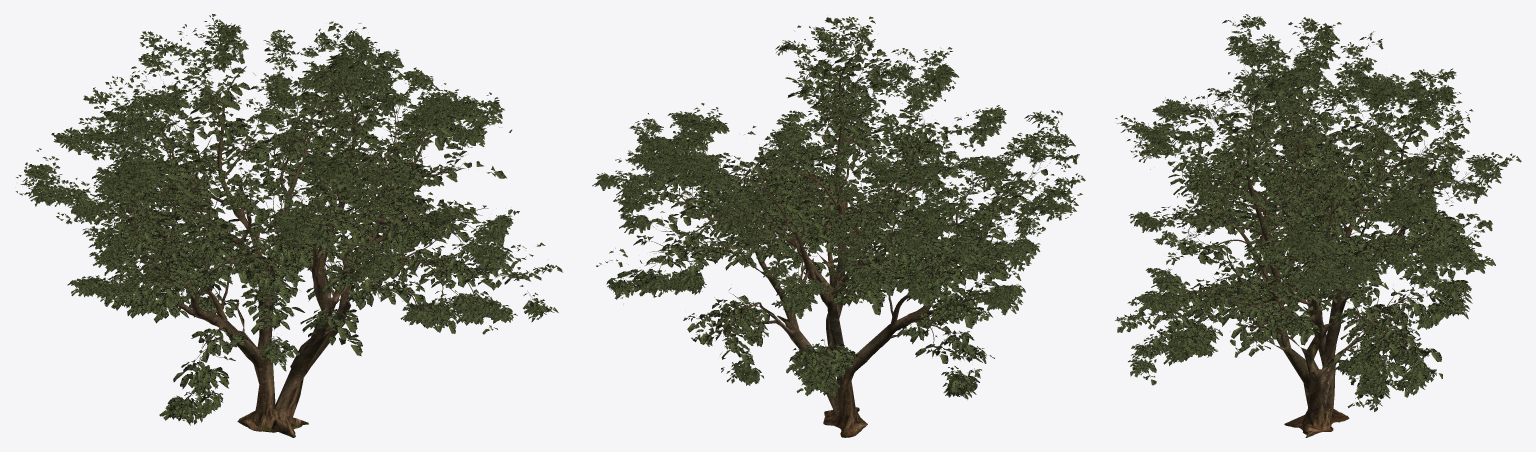
File: jacaranda_tree.glb
The picture shows the model from 3 angles, left to right: view 1: azimuth 30°, elevation 25°; view 2: azimuth 150°, elevation 25°; view 3: azimuth 270°, elevation 25°; orthographic projection. The views are drawn at different scales.
Visible parts, largest first — view 1: jacaranda_tree_LOD0; view 2: jacaranda_tree_LOD0; view 3: jacaranda_tree_LOD0.
Boxes of the visible parts, bbox=[...] form: jacaranda_tree_LOD0: bbox=[16, 14, 562, 437]; jacaranda_tree_LOD0: bbox=[592, 16, 1085, 437]; jacaranda_tree_LOD0: bbox=[1115, 14, 1521, 437].
Bounding box in the file's own units: 24.24 × 19.41 × 19.05.
Materials: 3 (3 with a texture image).
